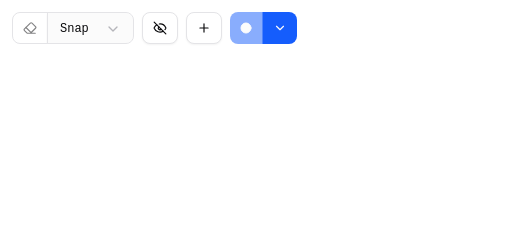
it: ProgrammerActionBar › A new palette › is disabled with the reason when nothing is selected
The image size is (517, 243).
Press the mouse on the button named "Record destination" at (280, 28), box [262, 12, 297, 44]
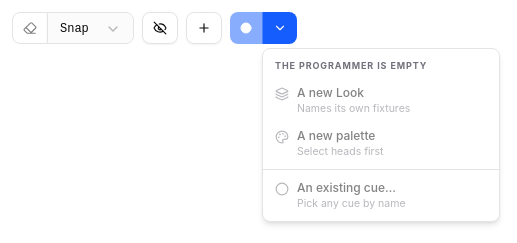
Check: the text "Select heads first" is shown, box [297, 144, 384, 158]
